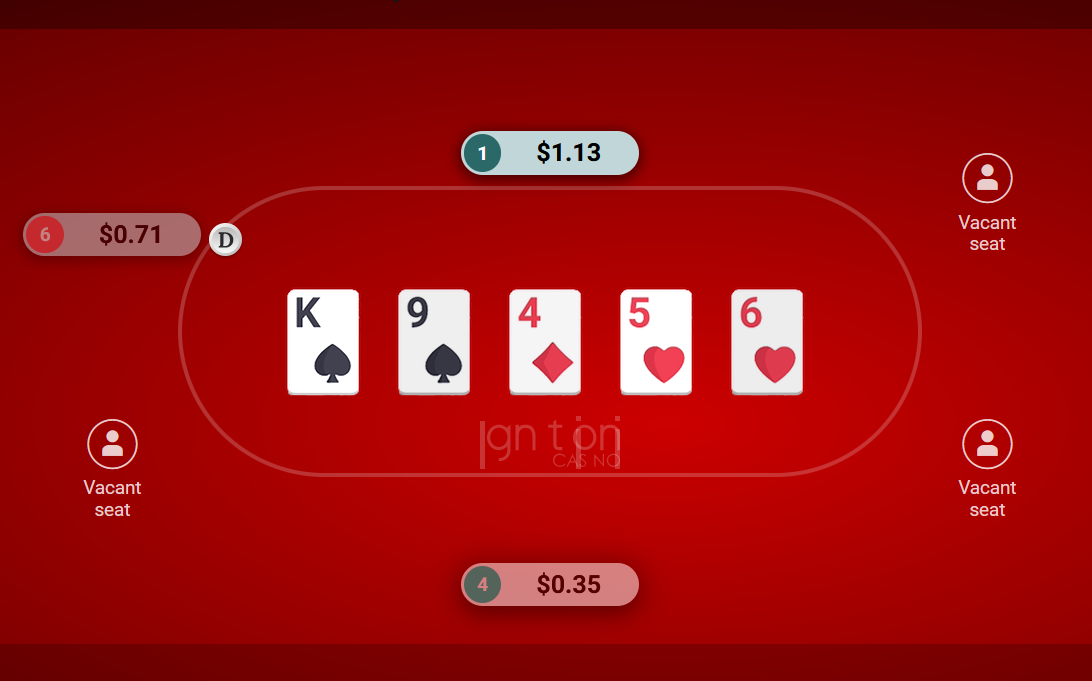4D: (505, 285, 586, 396)
5H: (616, 285, 697, 396)
6H: (727, 285, 808, 396)
9S: (394, 285, 475, 396)
KS: (283, 285, 364, 396)
